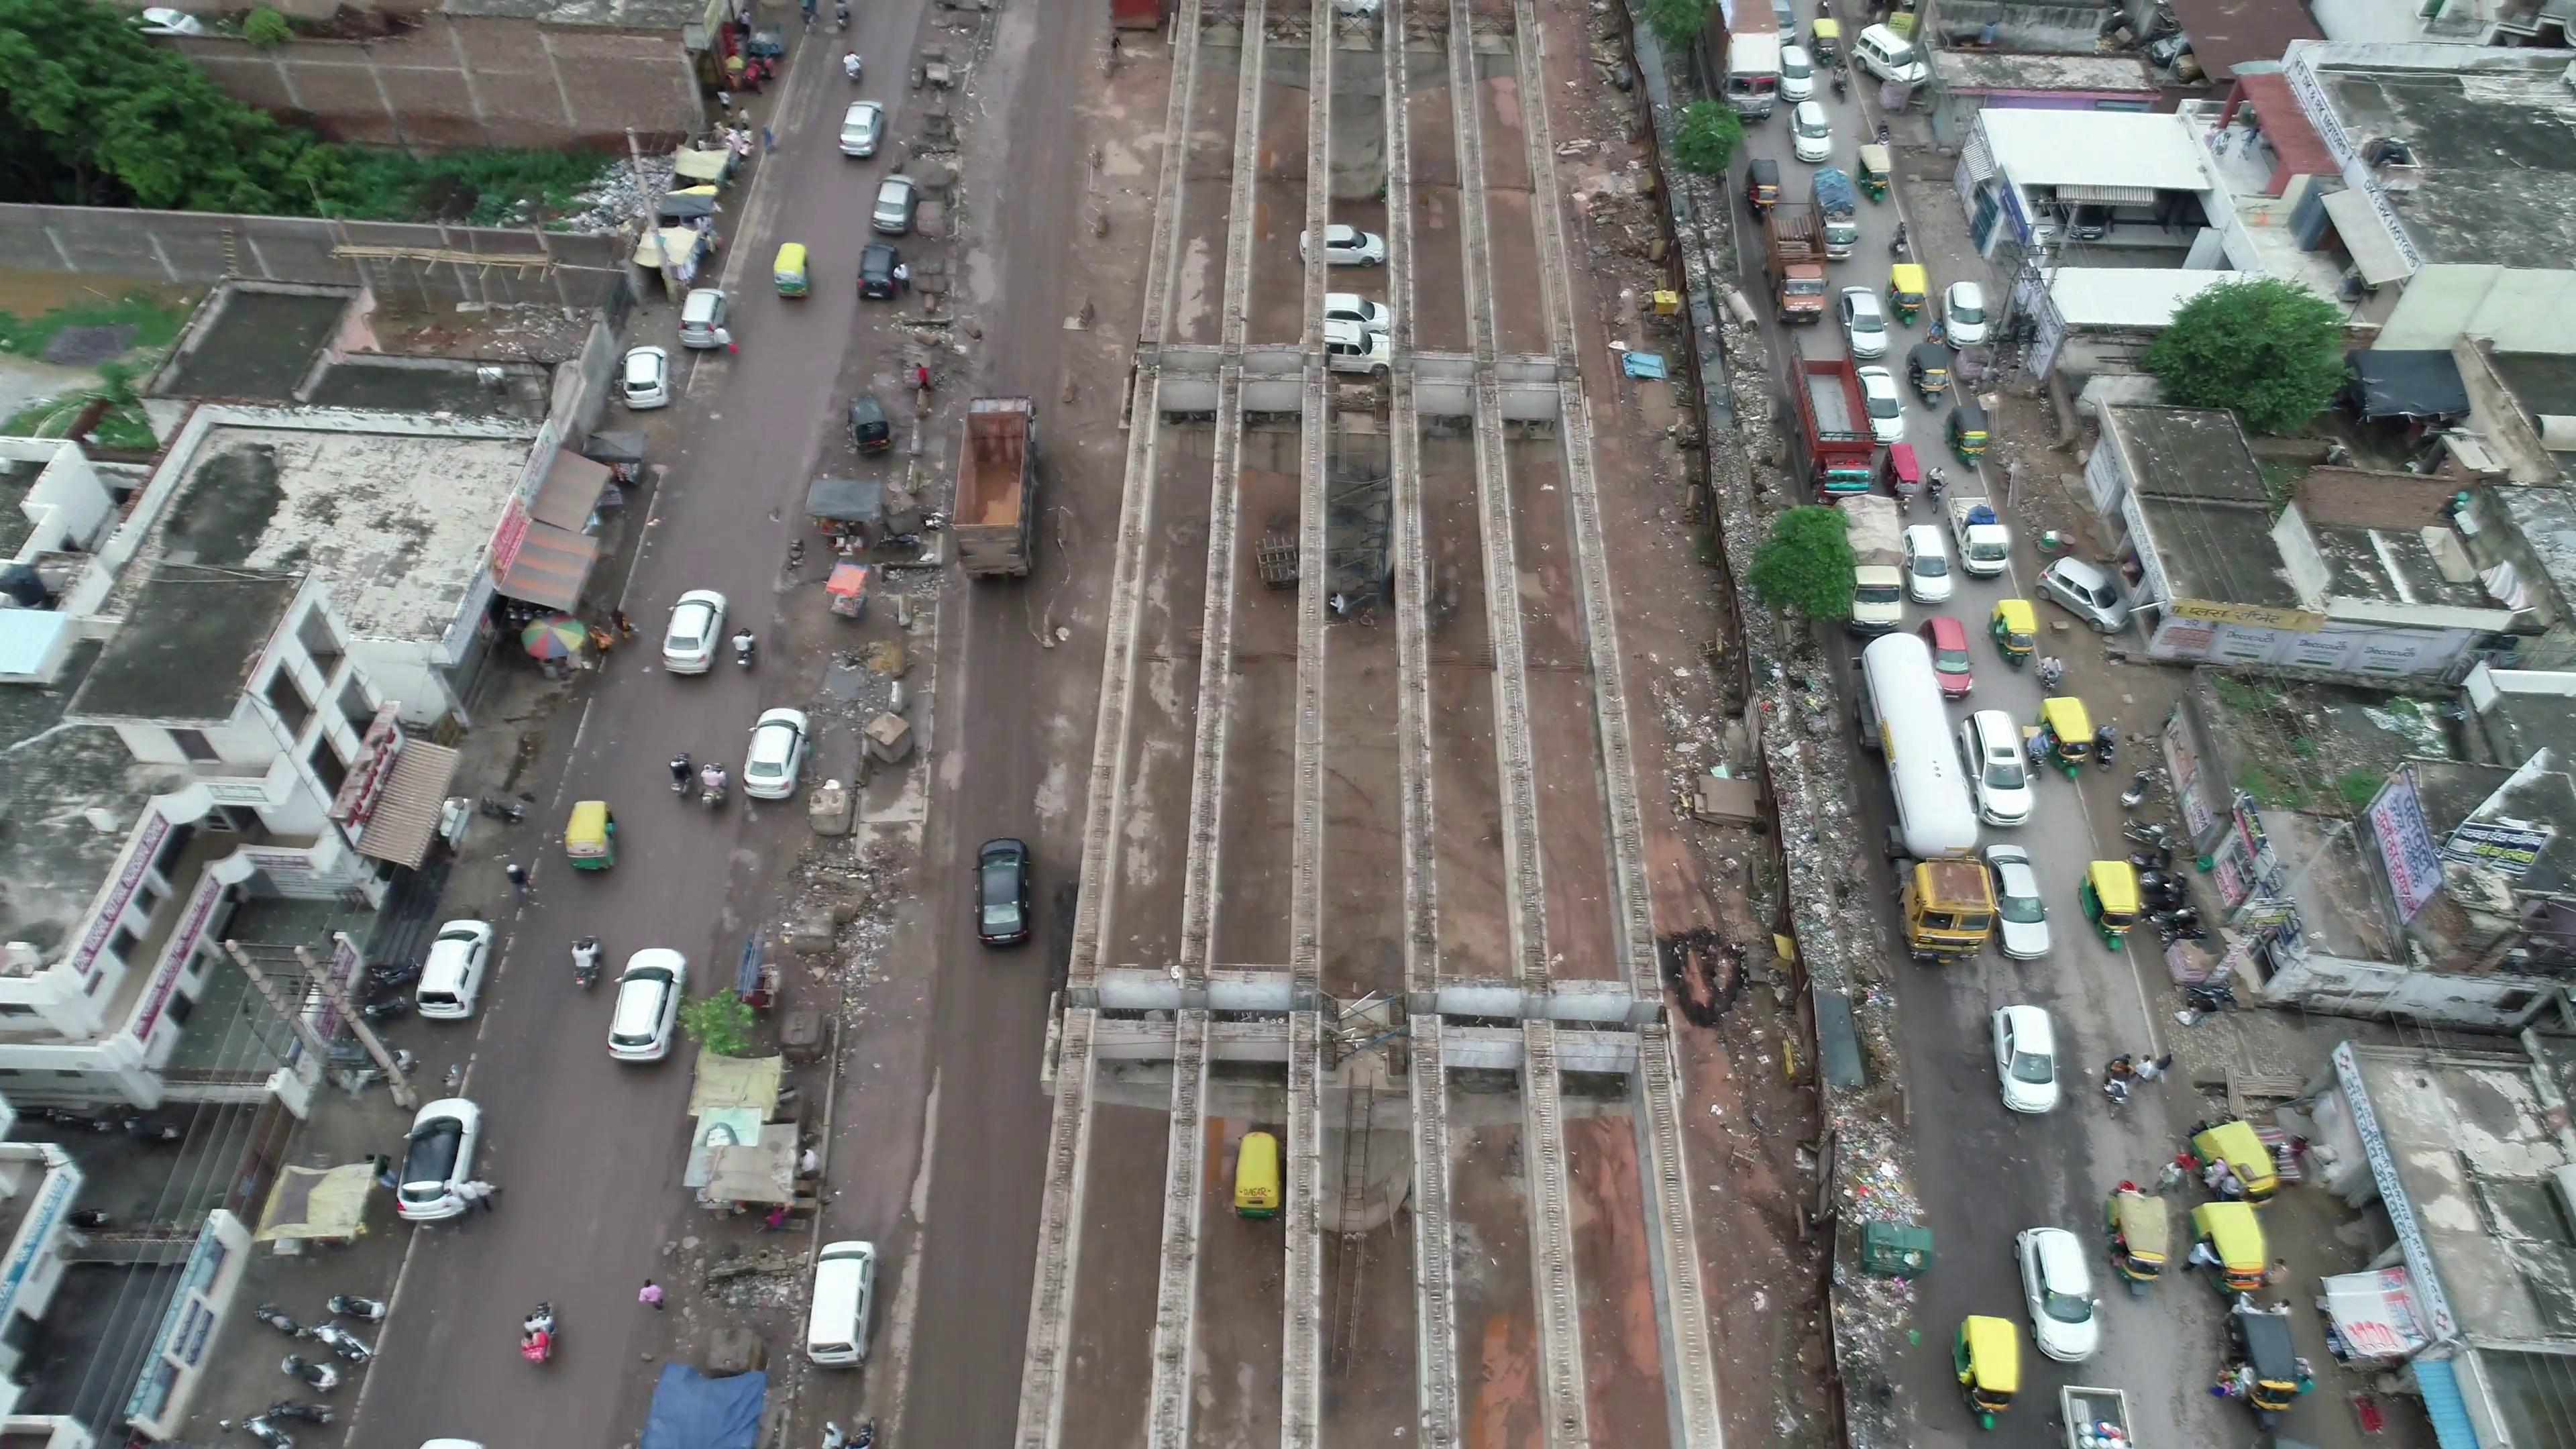Road_side_garbage: (1773, 686, 1875, 964)
